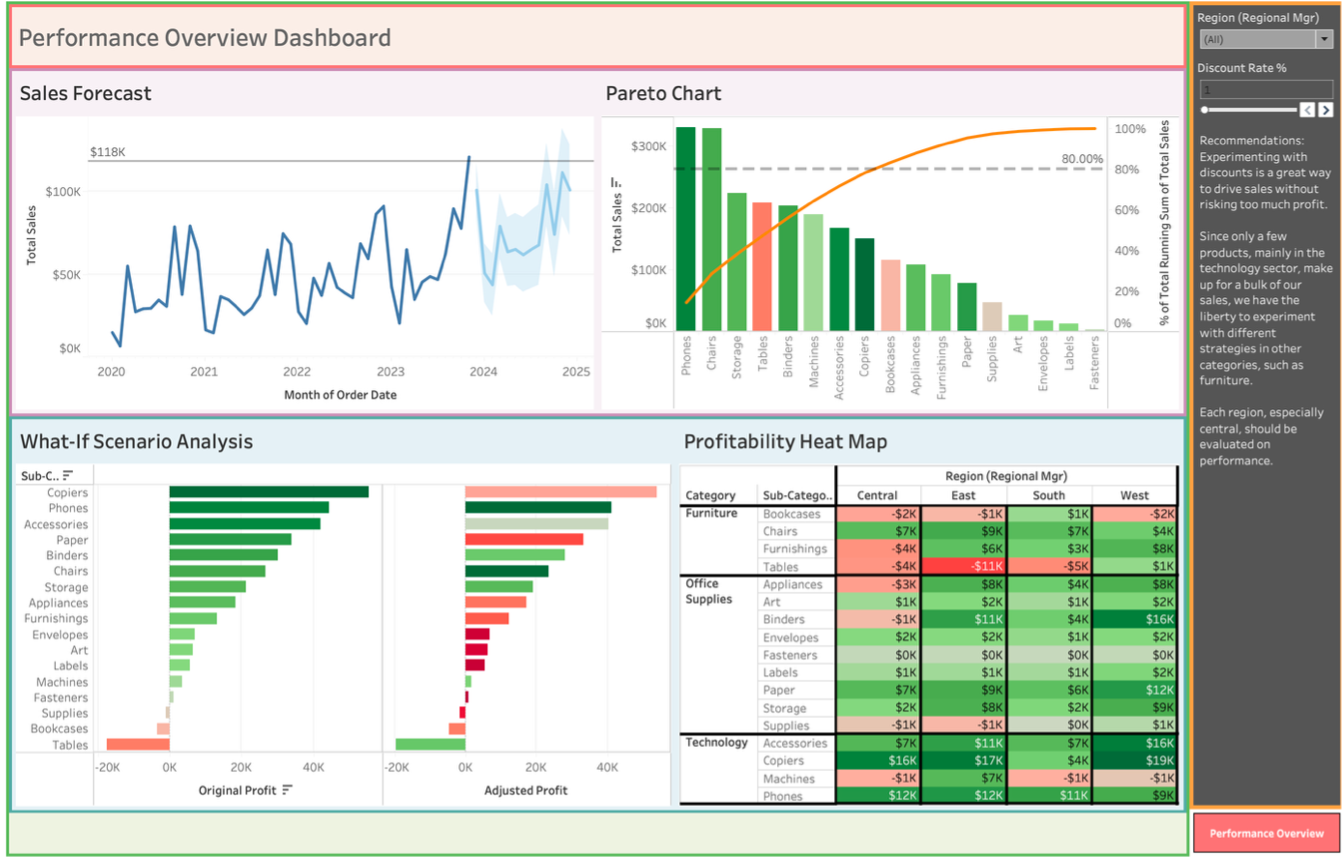

The page's visual inventory and layout, read from the dashboard file:
{"tool":"tableau","page":{"name":"Opportunities and Strategy","canvas":[1400,900],"ordinal":1},"visuals":[{"type":"filter","title":"What-If Scenario Analysis","param":"[federated.0j3m36s1u8mgw21ctp04d02ugqq1].[none:Region (Regional Mgr):nk]","box":[1235.6,12,152.4,52]},{"type":"text","box":[14,14,1211.6,60]},{"type":"parameter","param":"[Parameters].[Parameter 1]","box":[1235.6,64,152.4,75]},{"type":"worksheet","title":"Forecast","mark":"Automatic","rows":["Calculation_2816368255969181696"],"cols":["Order Date"],"box":[14,80,606,354]},{"type":"worksheet","title":"Pareto Chart 1.1","mark":"Automatic","rows":["Calculation_2816368255969181696"],"cols":["Sub-Category"],"box":[620,80,606,354]},{"type":"text","box":[1235.6,139,152.4,365]},{"type":"worksheet","title":"What-If Scenario Analysis","mark":"Automatic","rows":["Sub-Category"],"cols":["Calculation_121737939821625366","Calculation_121737939820974101"],"box":[14,440,686,404]},{"type":"worksheet","title":"Profitability Heat Map","mark":"Square","rows":["Category","Sub-Category"],"cols":["Region (Regional Mgr)"],"box":[700,440,525.5,404]},{"type":"dashboard-object","box":[1231.6,843,160.4,49]}]}

Visuals, with their boxes in screenshot pixels (x1, y1, x2, y2), scaled from the page's 1400x900 canvas onto the 1344x861 screenshot:
"What-If Scenario Analysis" filter: <bbox>1186, 11, 1332, 61</bbox>
text: <bbox>13, 13, 1177, 71</bbox>
parameter: <bbox>1186, 61, 1332, 133</bbox>
"Forecast" worksheet: <bbox>13, 77, 595, 415</bbox>
"Pareto Chart 1.1" worksheet: <bbox>595, 77, 1177, 415</bbox>
text: <bbox>1186, 133, 1332, 482</bbox>
"What-If Scenario Analysis" worksheet: <bbox>13, 421, 672, 807</bbox>
"Profitability Heat Map" worksheet (Square marks): <bbox>672, 421, 1176, 807</bbox>
dashboard-object: <bbox>1182, 806, 1336, 853</bbox>
